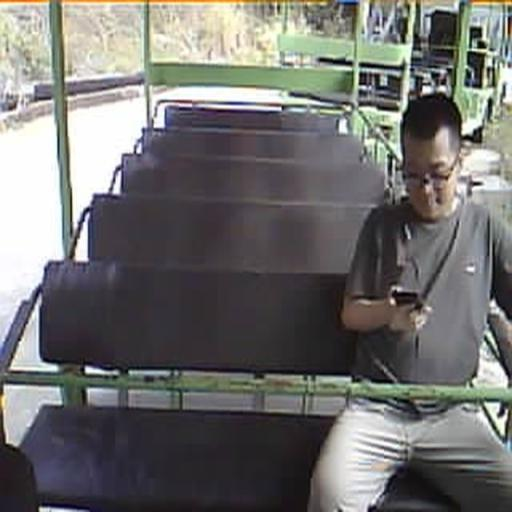persona: (306, 90, 512, 511)
